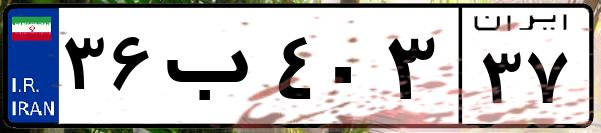0: (330, 28, 385, 110)
3: (385, 28, 445, 110), (57, 26, 110, 100), (475, 38, 525, 113)
4: (270, 28, 330, 110)
6: (110, 28, 158, 98)
7: (525, 38, 570, 115)
ب: (158, 20, 270, 120)
